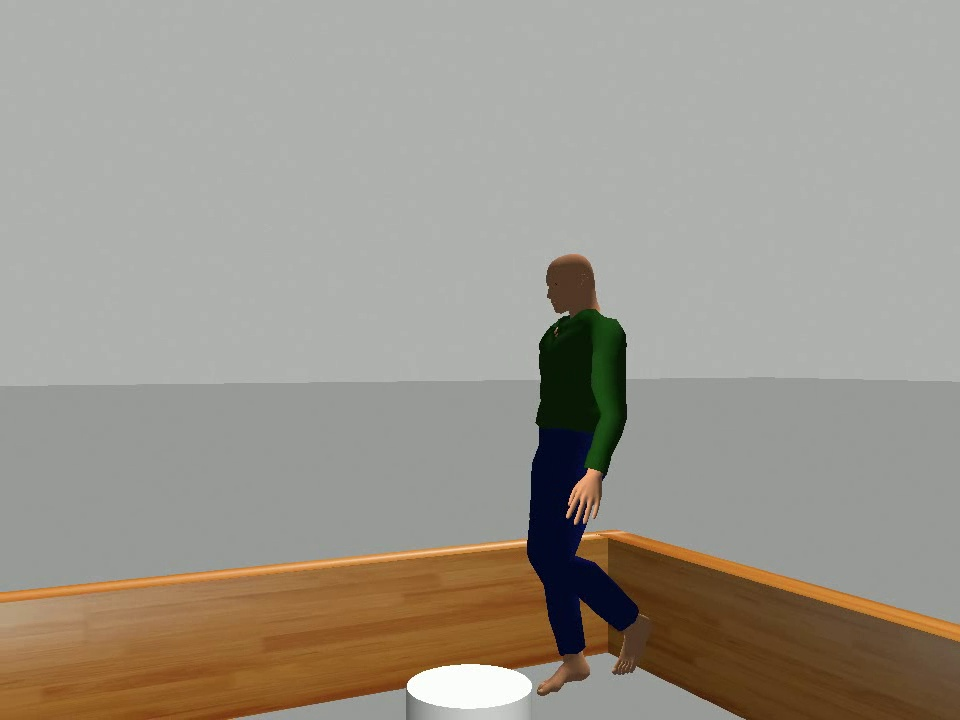person: (522, 252, 654, 698)
